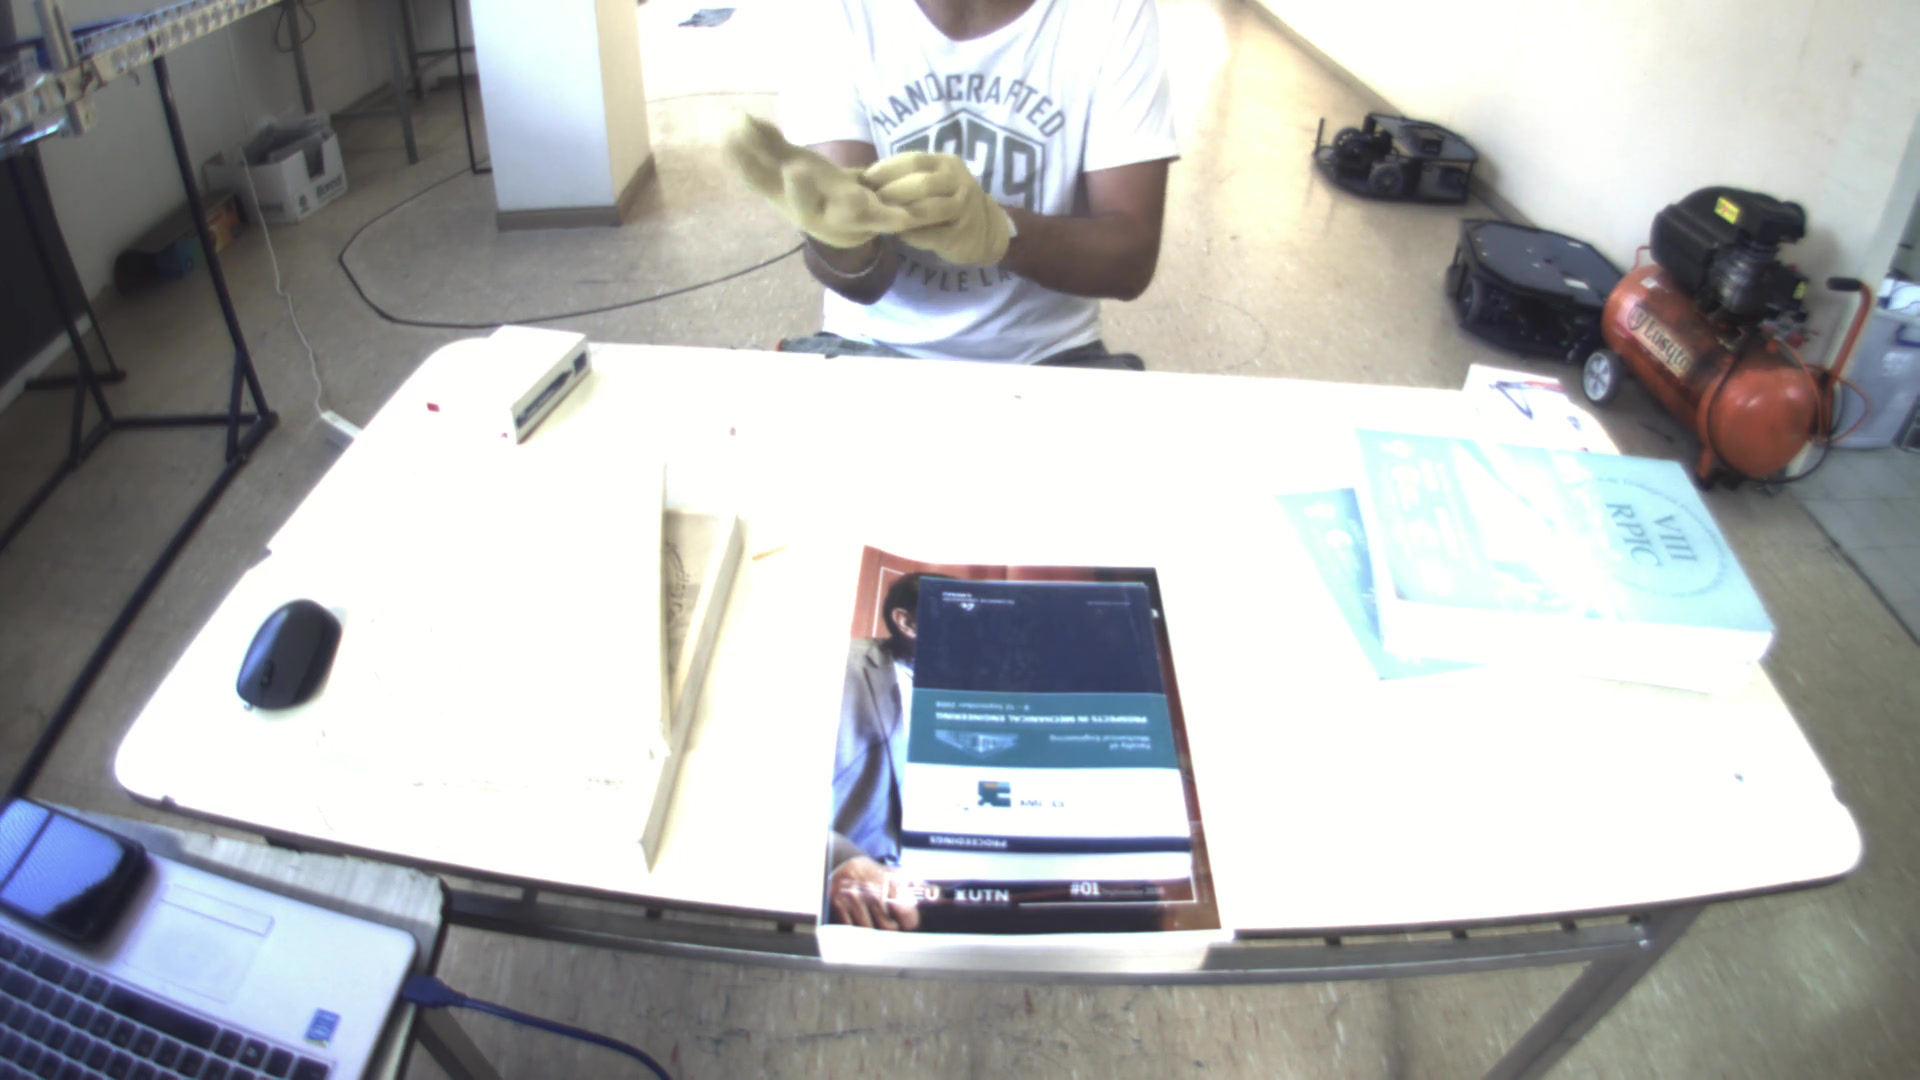hand: (711, 104, 924, 252), (860, 141, 1021, 266)
